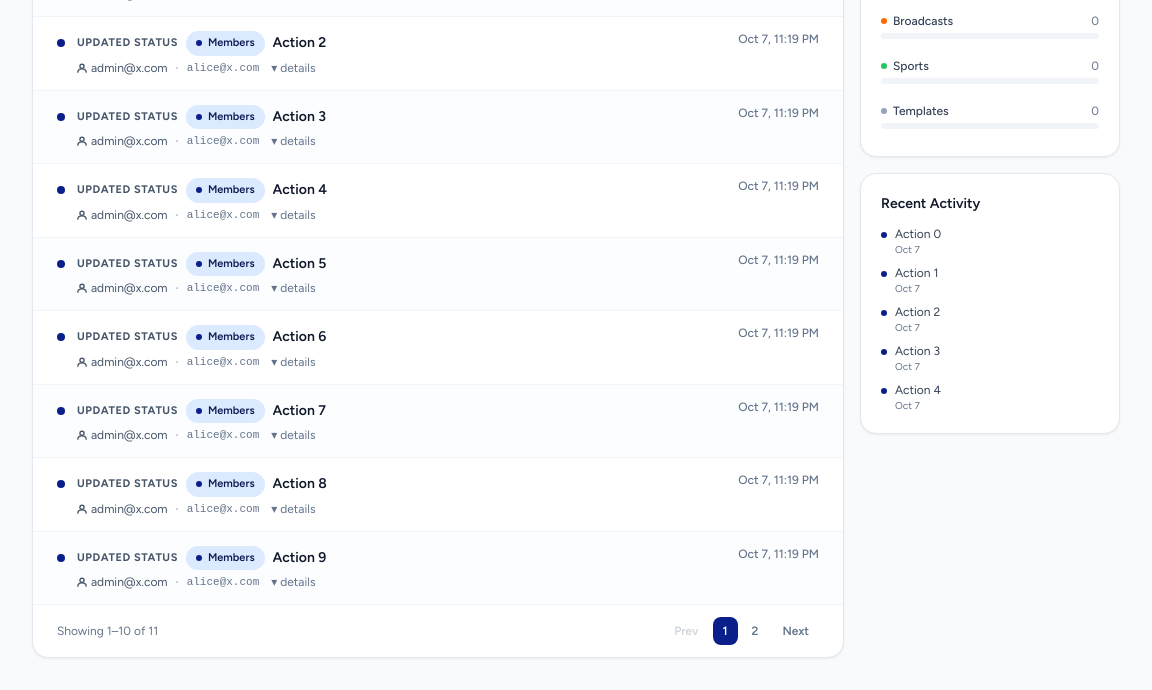
Scenario: AuditLogPage › paginates beyond the first 10 entries
This screenshot has width=1152, height=690.
(page scrolled)
Expected: the text "Action 10" is not shown
Click the button "Next" at (796, 631), box x1=772 y1=617 x2=819 y2=645
(page scrolled)
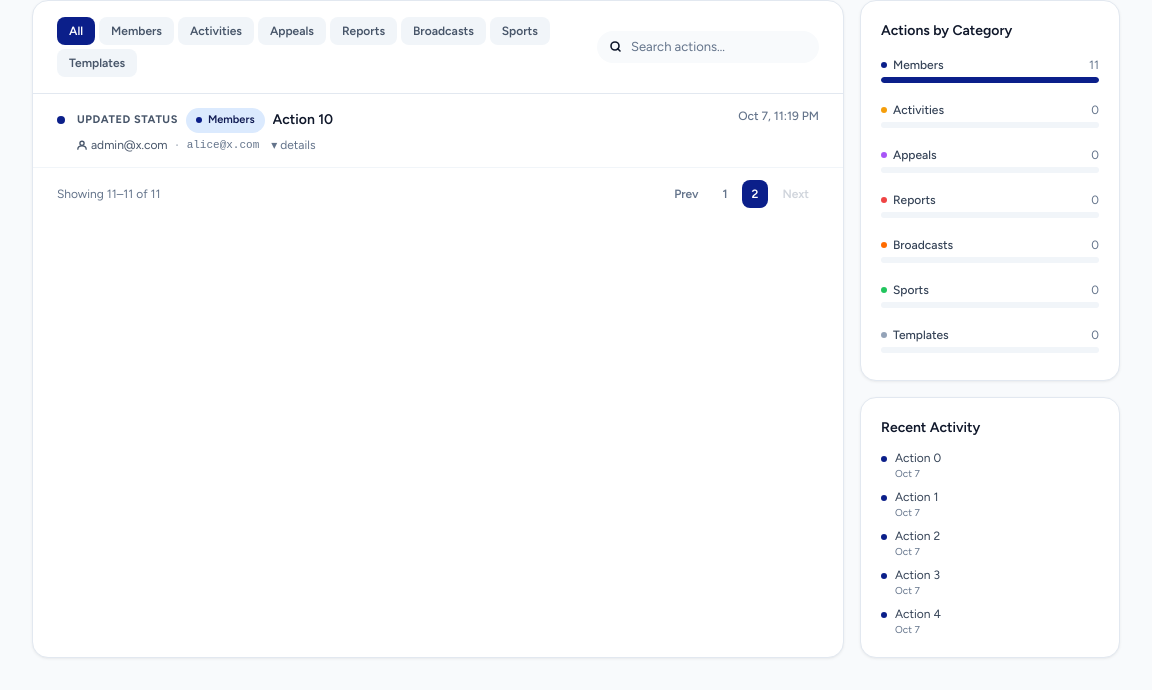
Expected: the text "Action 10" is shown, x1=272 y1=110 x2=333 y2=130
